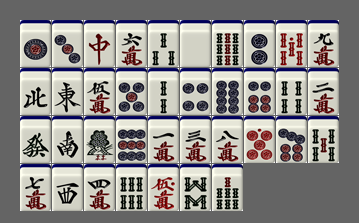0m: (148, 164, 179, 211)
0p: (244, 116, 275, 163)
0s: (276, 20, 307, 67)
1m: (148, 116, 179, 163)
1p: (20, 20, 51, 67)
1s: (84, 116, 115, 163)
1z: (52, 68, 83, 115)
2m: (308, 68, 339, 115)
2p: (244, 20, 275, 67)
2s: (148, 68, 179, 115)
2z: (52, 116, 83, 163)
3m: (180, 116, 211, 163)
3p: (52, 20, 83, 67)
3s: (148, 20, 179, 67)
3z: (52, 164, 83, 211)
4m: (84, 164, 115, 211)
4p: (180, 68, 211, 115)
4s: (276, 68, 307, 115)
4z: (20, 68, 51, 115)
5m: (84, 68, 115, 115)
5p: (116, 68, 147, 115)
5s: (308, 116, 339, 163)
5z: (180, 20, 211, 67)
6m: (116, 20, 147, 67)
6p: (244, 68, 275, 115)
6s: (116, 164, 147, 211)
6z: (20, 116, 51, 163)
7m: (20, 164, 51, 211)
7p: (276, 116, 307, 163)
7s: (212, 164, 243, 211)
7z: (84, 20, 115, 67)
8m: (212, 116, 243, 163)
8p: (212, 68, 243, 115)
8s: (180, 164, 211, 211)
9m: (308, 20, 339, 67)
9p: (116, 116, 147, 163)
9s: (212, 20, 243, 67)
